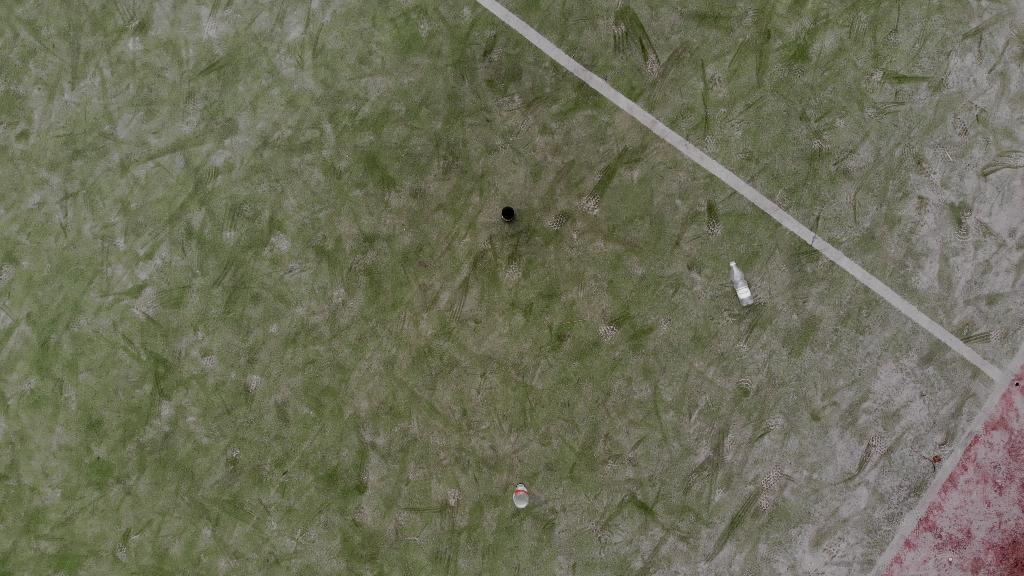garbage: (729, 259, 755, 311)
